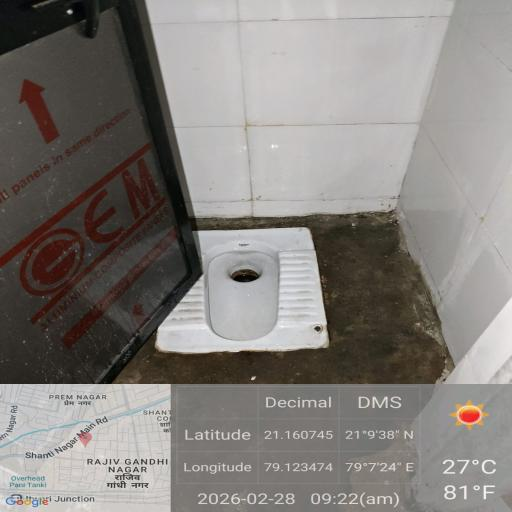clean_floor: (136, 12, 502, 205)
dirty_floor: (80, 210, 468, 385)
partial_dirty_floor: (0, 38, 133, 374)
partial_dirty_indian: (176, 228, 337, 355)
